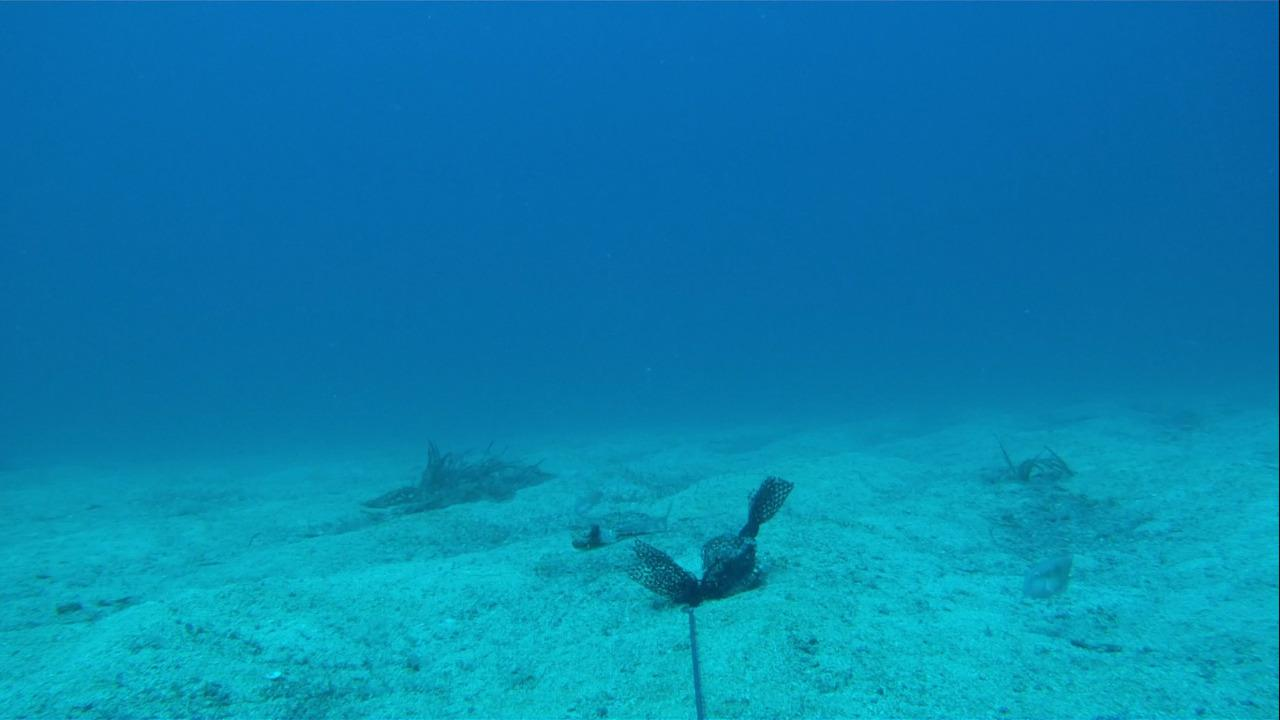dactylopterus: (560, 504, 681, 548)
raor: (1003, 543, 1074, 594)
